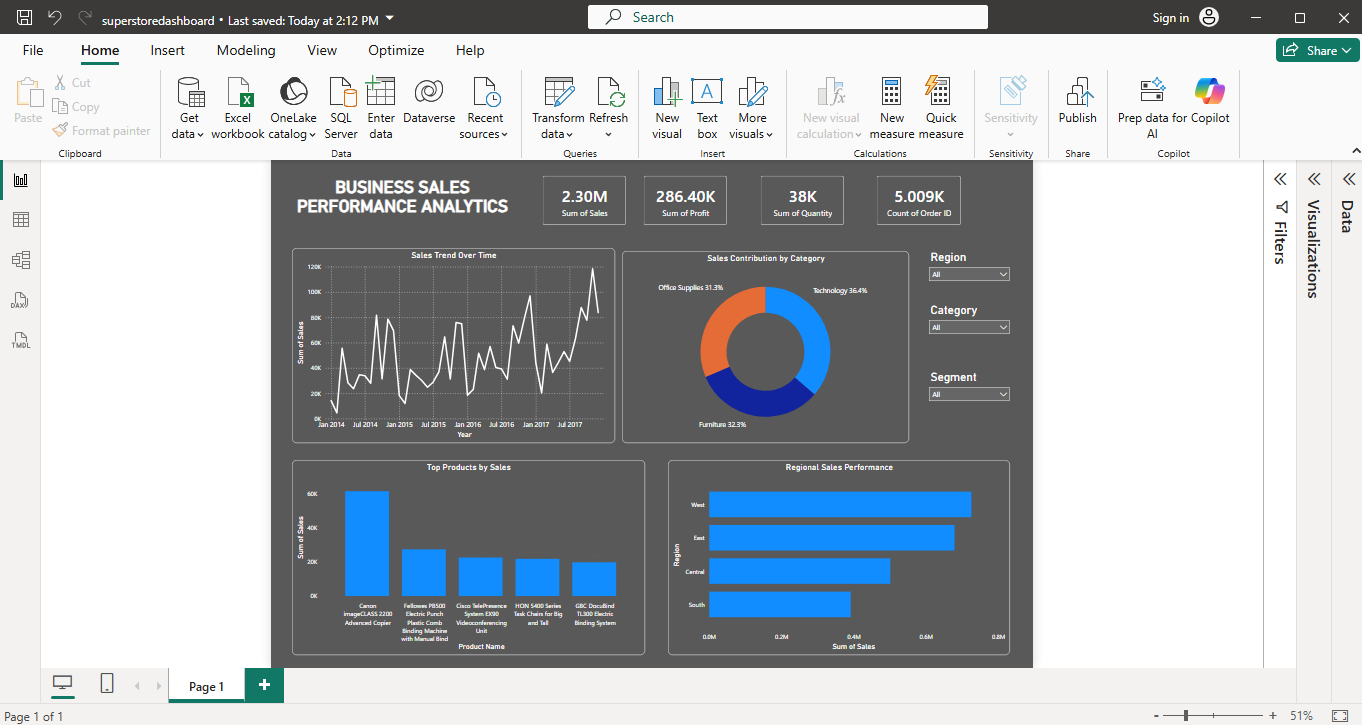

This screenshot's page, from the dashboard's own definition file:
{"tool":"powerbi","page":{"name":"Page 1","canvas":[1500,1000],"ordinal":0},"visuals":[{"type":"lineChart","title":"Sales Trend Over Time","fields":{"Y":["Sum(Sample - Superstore.Sales)"],"Category":["Sample - Superstore.Order Date.Variation.Date Hierarchy.Year","Sample - Superstore.Order Date.Variation.Date Hierarchy.Month"]},"box":[41.3,173.2,635.8,383.9],"z":0},{"type":"clusteredColumnChart","title":"Top Products by Sales","fields":{"Category":["Sample - Superstore.Product Name"],"Y":["Sum(Sample - Superstore.Sales)"]},"box":[41.3,590.6,694.9,383.9],"z":1000},{"type":"donutChart","title":"Sales Contribution by Category","fields":{"Category":["Sample - Superstore.Category"],"Y":["Sum(Sample - Superstore.Sales)"]},"box":[690.9,179.1,565,378],"z":2000},{"type":"clusteredBarChart","title":"Regional Sales Performance","fields":{"Category":["Sample - Superstore.Region"],"Y":["Sum(Sample - Superstore.Sales)"]},"box":[781.5,590.6,673.2,383.9],"z":3000},{"type":"textbox","title":"BUSINESS SALES PERFORMANCE ANALYTICS","box":[0,33.5,517.7,139.8],"z":8000},{"type":"cardVisual","fields":{"Data":["Sum(Sample - Superstore.Profit)"]},"box":[716.5,13.8,198.8,131.9],"z":8001},{"type":"cardVisual","fields":{"Data":["Sum(Sample - Superstore.Quantity)"]},"box":[946.9,13.8,198.8,131.9],"z":8002},{"type":"cardVisual","fields":{"Data":["Count(Sample - Superstore.Order ID)"]},"box":[1175.2,13.8,200.8,131.9],"z":8003},{"type":"cardVisual","fields":{"Data":["Sum(Sample - Superstore.Sales)"]},"box":[517.7,13.8,198.8,131.9],"z":8004},{"type":"slicer","fields":{"Values":["Sample - Superstore.Region"]},"box":[1285.4,173.2,179.1,181.1],"z":8005},{"type":"slicer","fields":{"Values":["Sample - Superstore.Category"]},"box":[1285.4,277.6,179.1,181.1],"z":8006},{"type":"slicer","fields":{"Values":["Sample - Superstore.Segment"]},"box":[1285.4,409.4,179.1,181.1],"z":8007}]}

Visuals, with their boxes on the page's 1500x1000 design canvas (x1, y1, x2, y2). These are canvas units, not pixel positions in the 1362x725 screenshot, which may show the page scaled, cropped or inside an application window:
"Sales Trend Over Time" lineChart: 41/173/677/557
"Top Products by Sales" clusteredColumnChart: 41/591/736/974
"Sales Contribution by Category" donutChart: 691/179/1256/557
"Regional Sales Performance" clusteredBarChart: 782/591/1455/974
"BUSINESS SALES PERFORMANCE ANALYTICS" textbox: 0/34/518/173
cardVisual - Sum(Sample - Superstore.Profit): 716/14/915/146
cardVisual - Sum(Sample - Superstore.Quantity): 947/14/1146/146
cardVisual - Count(Sample - Superstore.Order ID): 1175/14/1376/146
cardVisual - Sum(Sample - Superstore.Sales): 518/14/716/146
slicer - Sample - Superstore.Region: 1285/173/1464/354
slicer - Sample - Superstore.Category: 1285/278/1464/459
slicer - Sample - Superstore.Segment: 1285/409/1464/590
